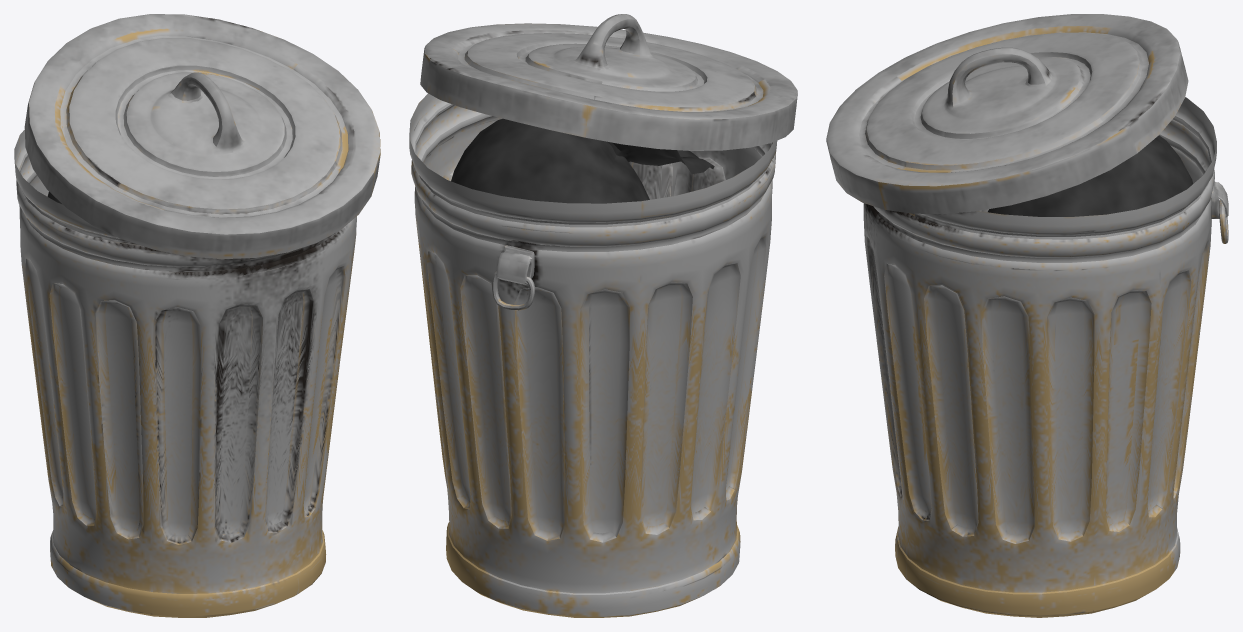
Rendered from DirtyGarbageBin_Itch.fbx.
The picture shows the model from 3 angles, left to right: view 1: azimuth 30°, elevation 25°; view 2: azimuth 150°, elevation 25°; view 3: azimuth 270°, elevation 25°; orthographic projection. The views are drawn at different scales.
Visible parts, largest first — view 1: DirtyGarbageBin; view 2: DirtyGarbageBin, GarbageBag; view 3: DirtyGarbageBin, GarbageBag.
Part boxes in pixels (<box>): DirtyGarbageBin: <box>14,14,380,617</box>; DirtyGarbageBin: <box>409,14,797,617</box>; GarbageBag: <box>451,118,714,203</box>; DirtyGarbageBin: <box>826,14,1228,617</box>; GarbageBag: <box>988,135,1192,216</box>.
Size of the model in its own units: 85.8 by 132 by 94.15.
Materials: 2 (2 with a texture image).
